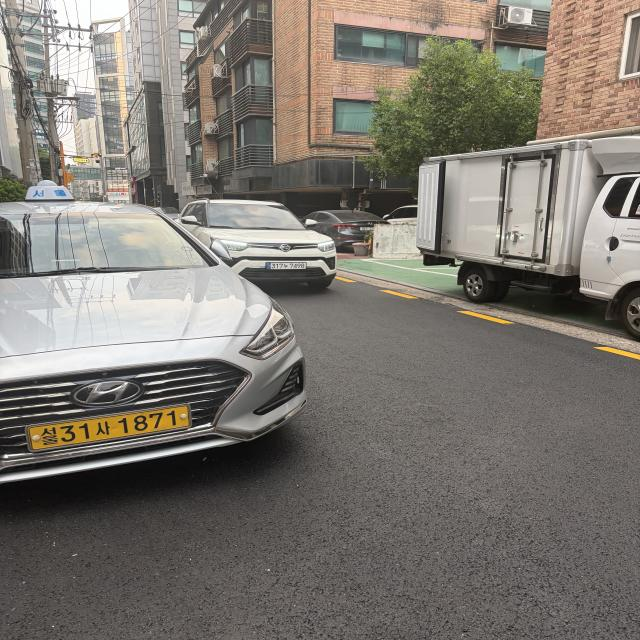car: (1, 172, 312, 508), (385, 128, 640, 350), (154, 190, 354, 302)
